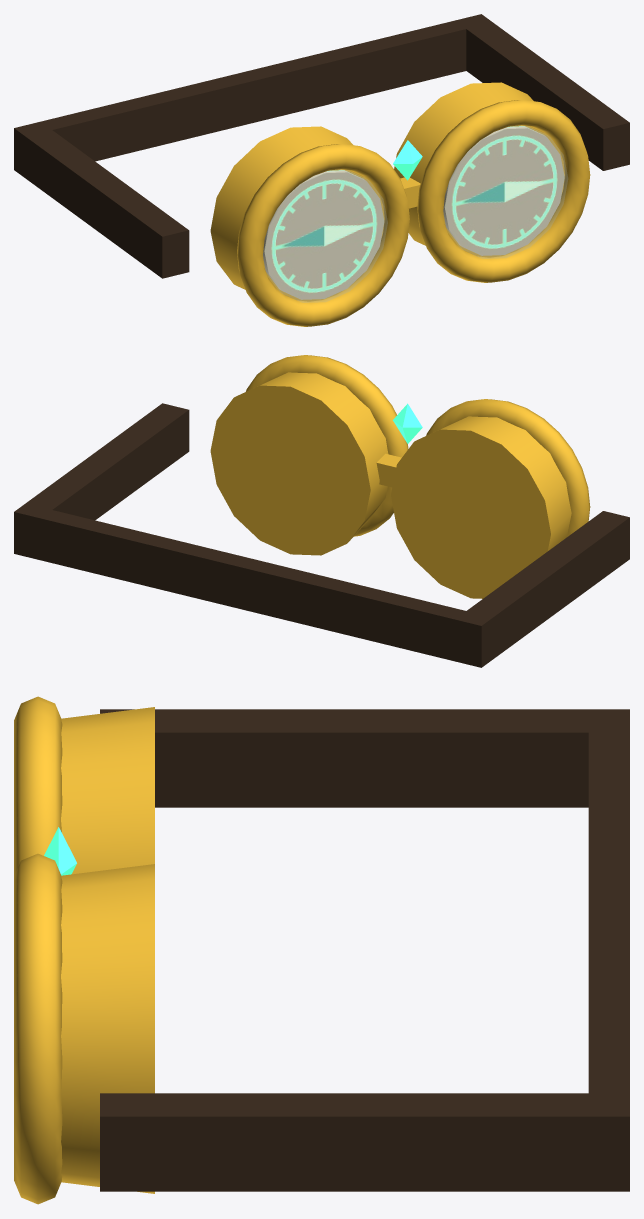
File: gl_eqsa4.glb
3 renders of one model, top to bottom at view 1: azimuth 30°, elevation 25°; view 2: azimuth 150°, elevation 25°; view 3: azimuth 270°, elevation 25°, orthographic. The views are drawn at different scales.
Size of the model in its own units: 2.16 by 0.7854 by 1.38.
7 materials, 2 textured.
